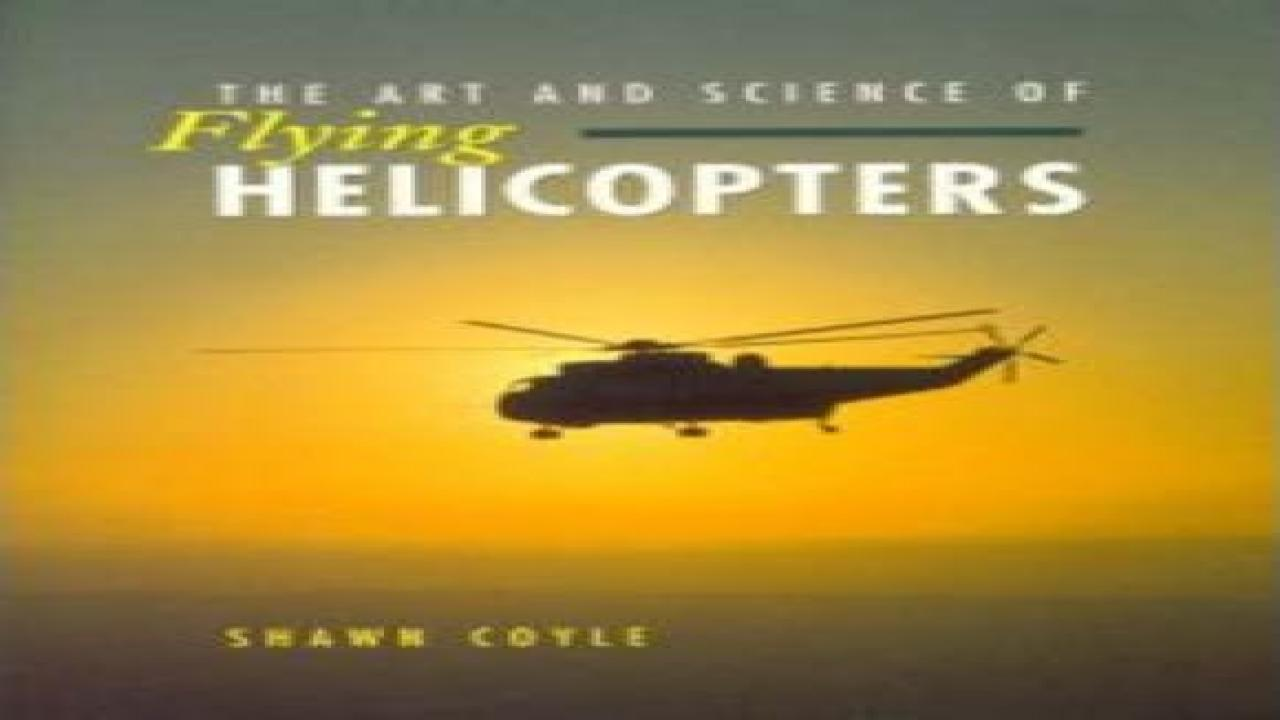Helicopter: (178, 306, 1079, 449)
